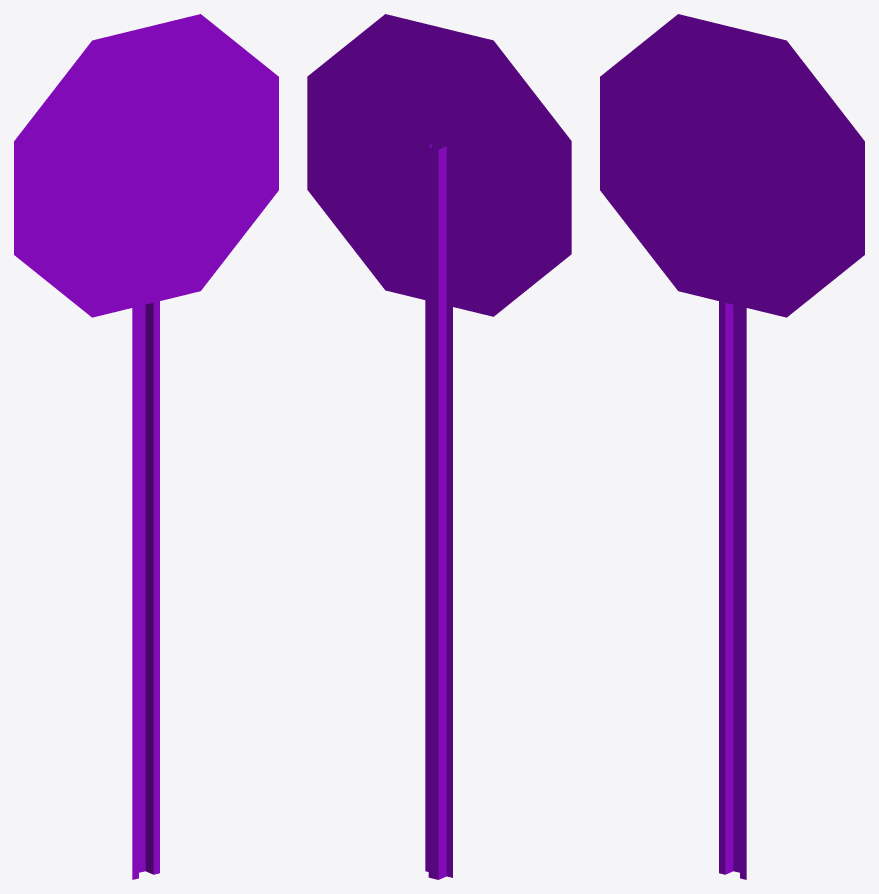
File: stop_sign.dae
3 views of the same model, side by side, from view 1: azimuth 30°, elevation 25°; view 2: azimuth 150°, elevation 25°; view 3: azimuth 330°, elevation 25° (orthographic).
Parts seen in each view (by area): view 1: Box001; view 2: Box001; view 3: Box001.
Part boxes in pixels (x1,y1,x2,y2): Box001: (14, 14, 278, 879); Box001: (307, 14, 571, 879); Box001: (600, 14, 864, 879).
Bounding box in the file's own units: 23.35 × 0.8984 × 71.56.
